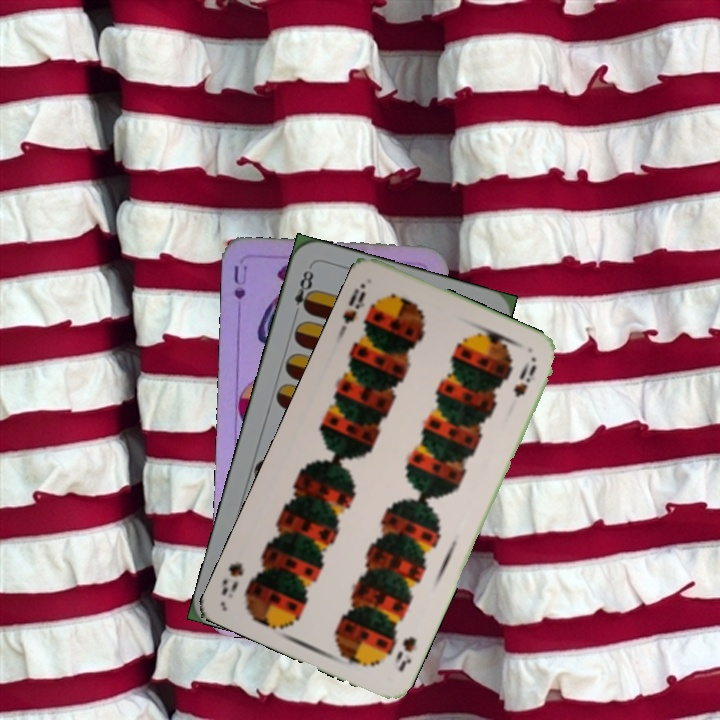E8: (289, 263, 317, 320)
S8: (390, 632, 419, 674), (339, 287, 368, 326)
SU: (230, 261, 250, 321)
